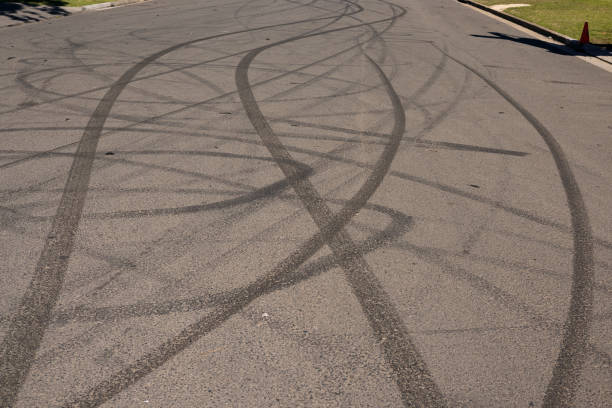vehicle_track: (77, 65, 404, 405), (0, 34, 226, 405), (1, 39, 202, 403), (292, 57, 445, 406), (447, 53, 593, 407), (129, 7, 362, 83), (161, 15, 336, 52), (52, 292, 229, 325), (446, 186, 567, 229), (54, 296, 205, 323), (85, 207, 181, 217), (121, 160, 128, 162)
